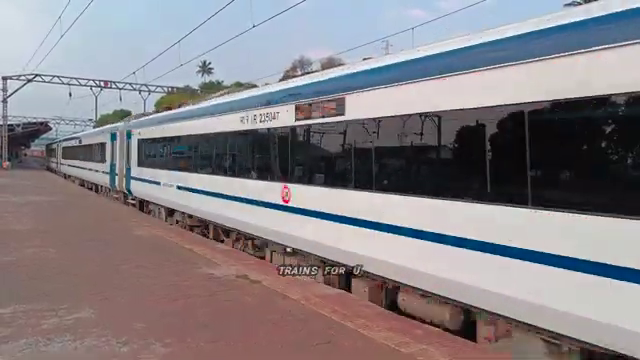Boogie: (252, 106, 286, 127)
